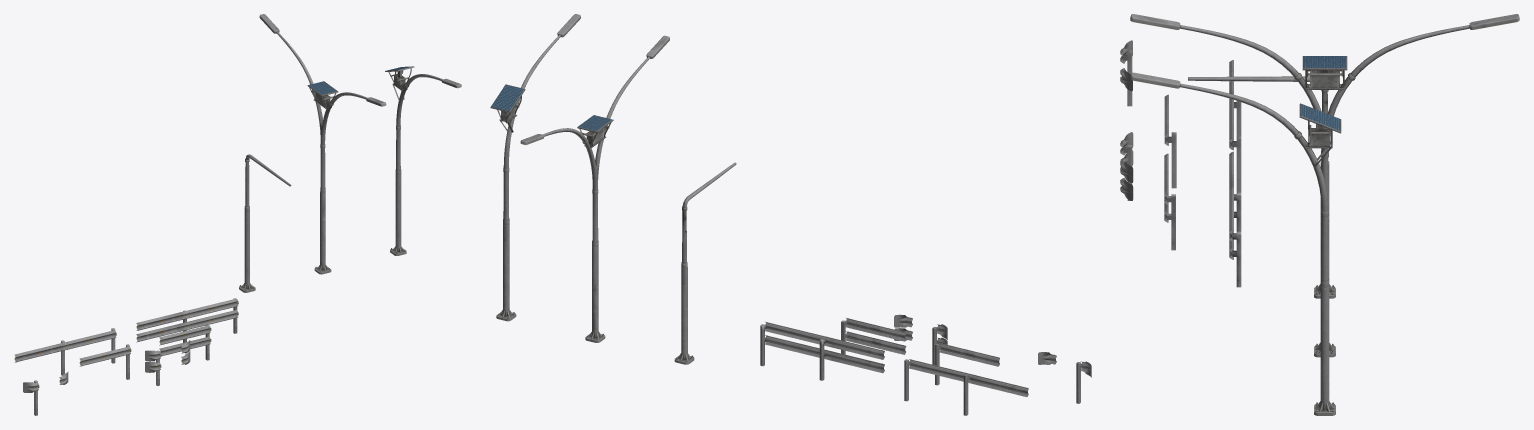
The model's file is road_pack_not_including_the_road.glb.
3 views of the same model, side by side, from view 1: azimuth 30°, elevation 25°; view 2: azimuth 150°, elevation 25°; view 3: azimuth 270°, elevation 25° (orthographic). The views are drawn at different scales.
Visible parts, largest first — view 1: RailingDouble_Railing_0, StreetLampDouble_Lamp_0; view 2: RailingDouble_Railing_0, StreetLampDouble_Lamp_0; view 3: StreetLampDouble_Lamp_0, RailingDouble_Railing_0.
Part boxes in pixels (left/top/right/bottom): RailingDouble_Railing_0: left=14, top=298, right=238, bottom=415; StreetLampDouble_Lamp_0: left=239, top=14, right=461, bottom=292; RailingDouble_Railing_0: left=760, top=314, right=1091, bottom=415; StreetLampDouble_Lamp_0: left=490, top=14, right=736, bottom=364; StreetLampDouble_Lamp_0: left=1130, top=14, right=1519, bottom=415; RailingDouble_Railing_0: left=1120, top=40, right=1241, bottom=287.
Bounding box in the file's own units: 17.65 × 8.6 × 8.64.
Materials: 2 (2 with a texture image).
